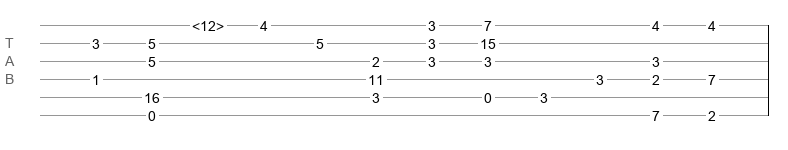0: (148, 108, 156, 118), (484, 90, 492, 100)
1: (92, 72, 100, 82)
11: (368, 72, 384, 82)
15: (480, 36, 496, 46)
16: (144, 90, 160, 100)
2: (372, 54, 380, 64), (652, 72, 660, 82), (708, 108, 716, 118)
3: (92, 36, 100, 46), (372, 90, 380, 100), (428, 36, 436, 46), (428, 18, 436, 28), (428, 54, 436, 64), (484, 54, 492, 64), (540, 90, 548, 100), (596, 72, 604, 82), (652, 54, 660, 64)
4: (260, 18, 268, 28), (652, 18, 660, 28), (708, 18, 716, 28)
5: (148, 36, 156, 46), (148, 54, 156, 64), (316, 36, 324, 46)
7: (484, 18, 492, 28), (652, 108, 660, 118), (708, 72, 716, 82)
harmonic: (192, 18, 224, 28)
